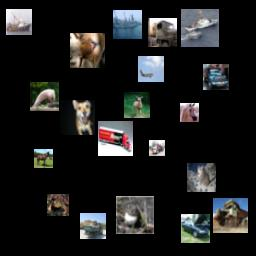airplane: (138, 56, 164, 82)
automobile: (181, 214, 210, 243)
bird: (30, 82, 59, 111)
cat: (70, 33, 105, 68), (187, 163, 216, 192)
deer: (124, 92, 150, 118)
dog: (60, 100, 95, 135)
frog: (116, 196, 154, 234), (47, 194, 69, 216)
ship: (181, 9, 219, 47), (113, 10, 142, 39), (6, 9, 32, 35)
truck: (213, 198, 248, 233), (98, 121, 133, 156), (148, 18, 177, 47), (80, 213, 106, 239), (203, 64, 229, 90), (149, 140, 165, 156)
